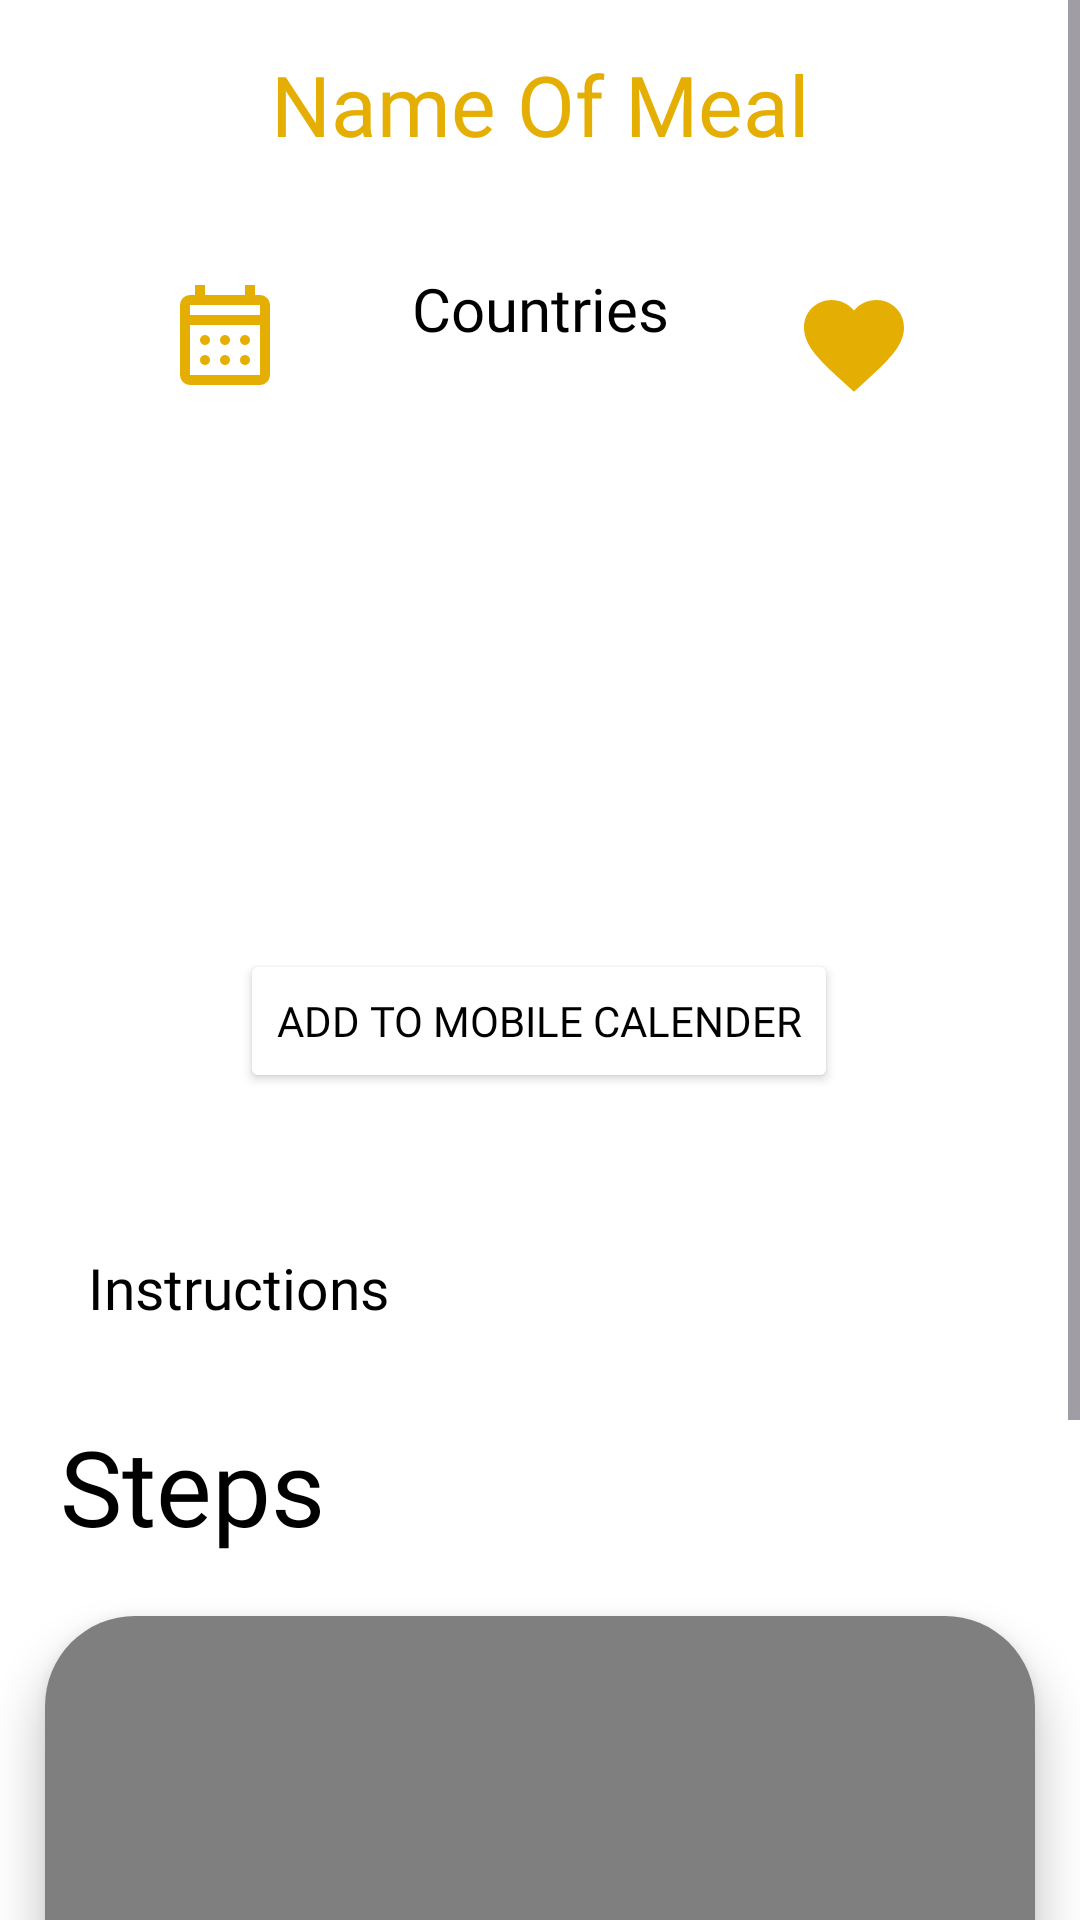

Screen size 1080px x 1920px. Icon name, then its box in pixels as {"left": x1, "top": y1, "right": x2, "bottom": y2}:
calendar: {"left": 180, "top": 285, "right": 270, "bottom": 385}
heart: {"left": 804, "top": 300, "right": 904, "bottom": 392}
